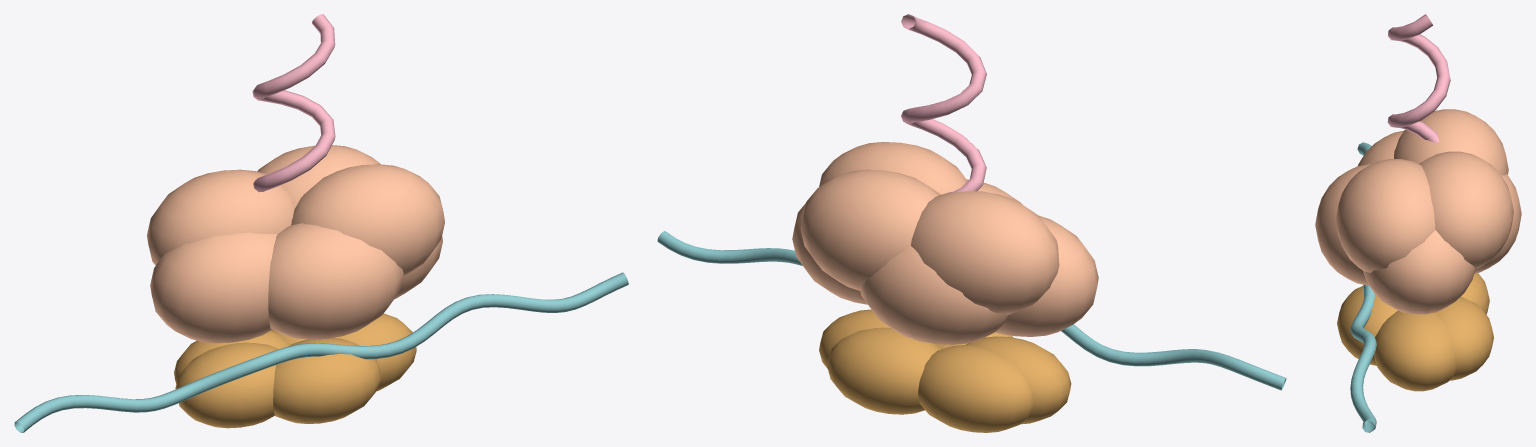
File: ribosome.glb
3 renders of one model, left to right at view 1: azimuth 30°, elevation 25°; view 2: azimuth 150°, elevation 25°; view 3: azimuth 270°, elevation 25°, orthographic. The views are drawn at different scales.
Parts seen in each view (by area): view 1: large-subunit, small-subunit, mRNA, nascent-peptide; view 2: large-subunit, small-subunit, mRNA, nascent-peptide; view 3: large-subunit, small-subunit, nascent-peptide, mRNA.
Part boxes in pixels (x1,y1,x2,y2): large-subunit: (147,145,444,343); small-subunit: (174,313,416,428); mRNA: (14,272,628,432); nascent-peptide: (252,14,335,192); large-subunit: (792,142,1098,344); small-subunit: (819,309,1071,432); mRNA: (657,231,1286,390); nascent-peptide: (901,14,986,193); large-subunit: (1315,109,1521,314); small-subunit: (1337,273,1493,391); nascent-peptide: (1387,14,1450,142); mRNA: (1350,142,1376,432).
Bounding box in the file's own units: 6.64 × 3.94 × 2.08.
